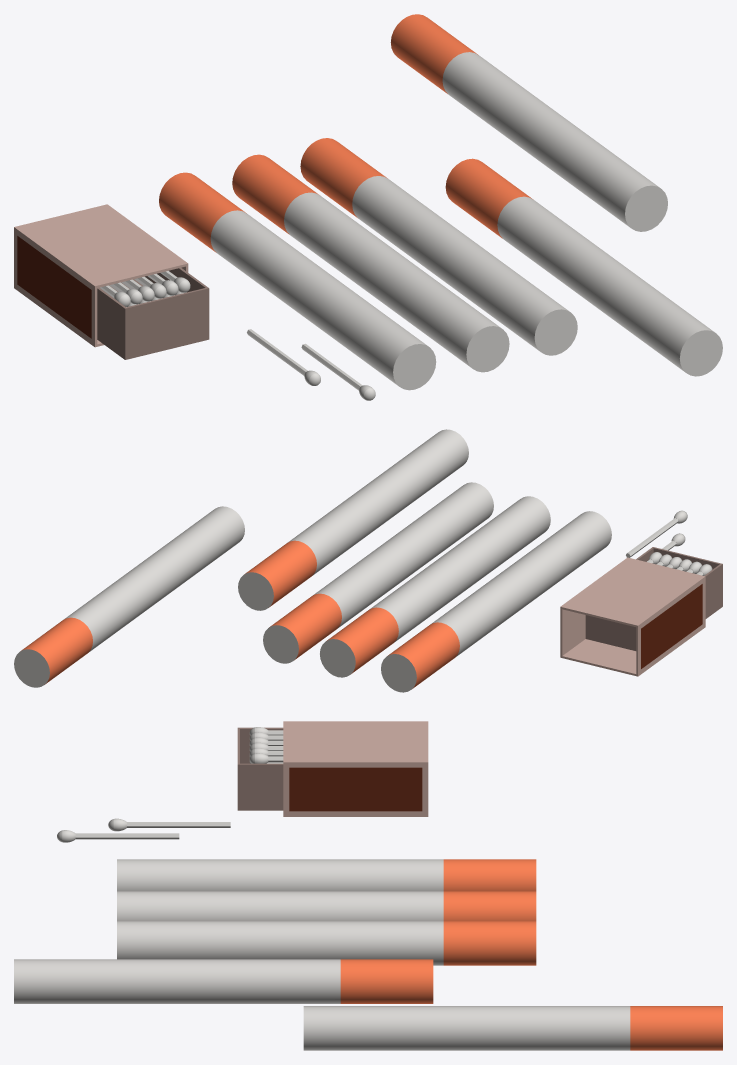
The model's file is cigar.obj.
3 renders of one model, top to bottom at view 1: azimuth 30°, elevation 25°; view 2: azimuth 150°, elevation 25°; view 3: azimuth 270°, elevation 25°, orthographic. The views are drawn at different scales.
Parts seen in each view (by area): view 1: Mesh28 Component_3_1 Model, Mesh30 Component_3_3 Model, Mesh32 Component_3_5 Model, Mesh31 Component_3_4 Model, Mesh29 Component_3_2 Model, Mesh27 Component_2_1 Model, Mesh33 Model, Mesh25 Component_1_25 Model, Mesh26 Component_1_26 Model; view 2: Mesh27 Component_2_1 Model, Mesh29 Component_3_2 Model, Mesh28 Component_3_1 Model, Mesh31 Component_3_4 Model, Mesh30 Component_3_3 Model, Mesh32 Component_3_5 Model, Mesh33 Model, Mesh25 Component_1_25 Model; view 3: Mesh31 Component_3_4 Model, Mesh32 Component_3_5 Model, Mesh30 Component_3_3 Model, Mesh27 Component_2_1 Model, Mesh29 Component_3_2 Model, Mesh28 Component_3_1 Model, Mesh33 Model, Mesh25 Component_1_25 Model, Mesh26 Component_1_26 Model.
Boxes of the visible parts, bbox=[...] form: Mesh28 Component_3_1 Model: bbox=[232, 154, 509, 372]; Mesh30 Component_3_3 Model: bbox=[300, 138, 577, 355]; Mesh32 Component_3_5 Model: bbox=[390, 14, 667, 231]; Mesh31 Component_3_4 Model: bbox=[445, 158, 722, 376]; Mesh29 Component_3_2 Model: bbox=[159, 172, 436, 390]; Mesh27 Component_2_1 Model: bbox=[14, 204, 188, 347]; Mesh33 Model: bbox=[97, 268, 209, 359]; Mesh25 Component_1_25 Model: bbox=[301, 343, 375, 400]; Mesh26 Component_1_26 Model: bbox=[247, 329, 320, 385]; Mesh27 Component_2_1 Model: bbox=[560, 557, 705, 676]; Mesh29 Component_3_2 Model: bbox=[381, 511, 611, 692]; Mesh28 Component_3_1 Model: bbox=[320, 496, 550, 677]; Mesh31 Component_3_4 Model: bbox=[238, 429, 468, 610]; Mesh30 Component_3_3 Model: bbox=[263, 482, 493, 663]; Mesh32 Component_3_5 Model: bbox=[14, 506, 244, 687]; Mesh33 Model: bbox=[585, 547, 722, 650]; Mesh25 Component_1_25 Model: bbox=[626, 510, 687, 557]; Mesh31 Component_3_4 Model: bbox=[14, 959, 433, 1003]; Mesh32 Component_3_5 Model: bbox=[303, 1006, 722, 1050]; Mesh30 Component_3_3 Model: bbox=[117, 921, 536, 965]; Mesh27 Component_2_1 Model: bbox=[283, 721, 428, 816]; Mesh29 Component_3_2 Model: bbox=[117, 859, 536, 891]; Mesh28 Component_3_1 Model: bbox=[117, 891, 536, 920]; Mesh33 Model: bbox=[237, 727, 283, 810]; Mesh25 Component_1_25 Model: bbox=[57, 830, 179, 842]; Mesh26 Component_1_26 Model: bbox=[108, 818, 230, 831].
Bounding box in the file's own units: 25.02 × 3.71 × 29.36.
